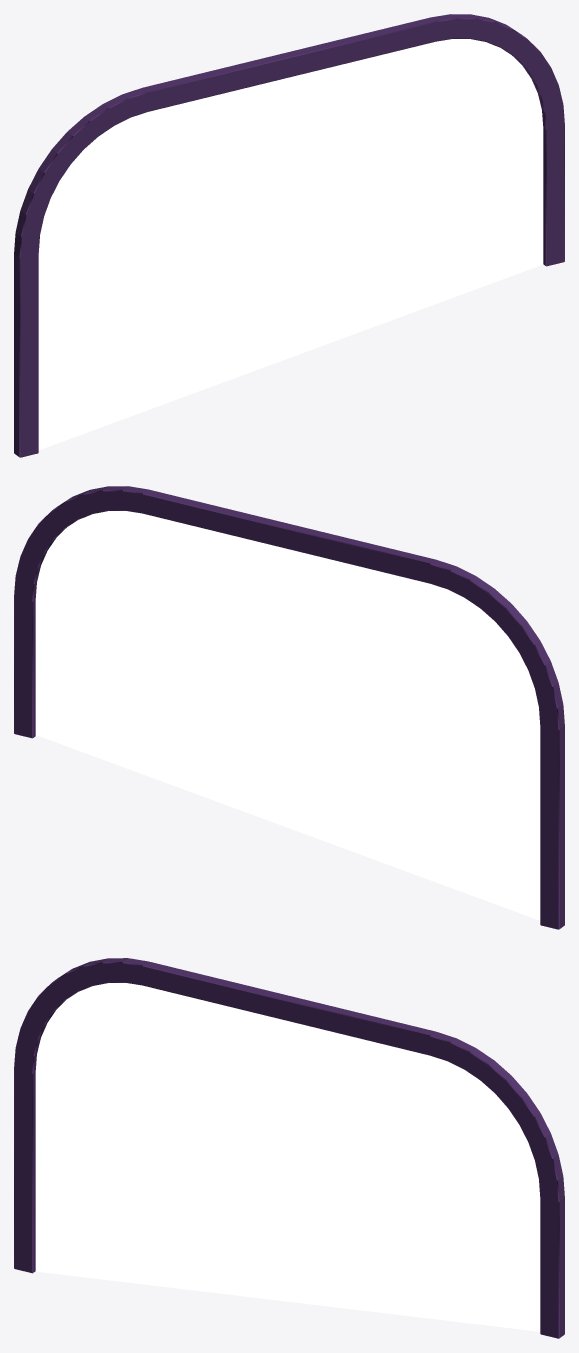
File: SM_SB_Kit_AlienRib.fbx
The picture shows the model from 3 angles, top to bottom: view 1: azimuth 30°, elevation 25°; view 2: azimuth 150°, elevation 25°; view 3: azimuth 330°, elevation 25°; orthographic projection.
Parts seen in each view (by area): view 1: SM_SB_Kit_AlienRib; view 2: SM_SB_Kit_AlienRib; view 3: SM_SB_Kit_AlienRib.
Boxes of the visible parts, <box> form: SM_SB_Kit_AlienRib: <box>14,14,564,457</box>; SM_SB_Kit_AlienRib: <box>14,486,564,929</box>; SM_SB_Kit_AlienRib: <box>14,958,564,1338</box>.
Size of the model in its own units: 1270 by 25 by 745.
